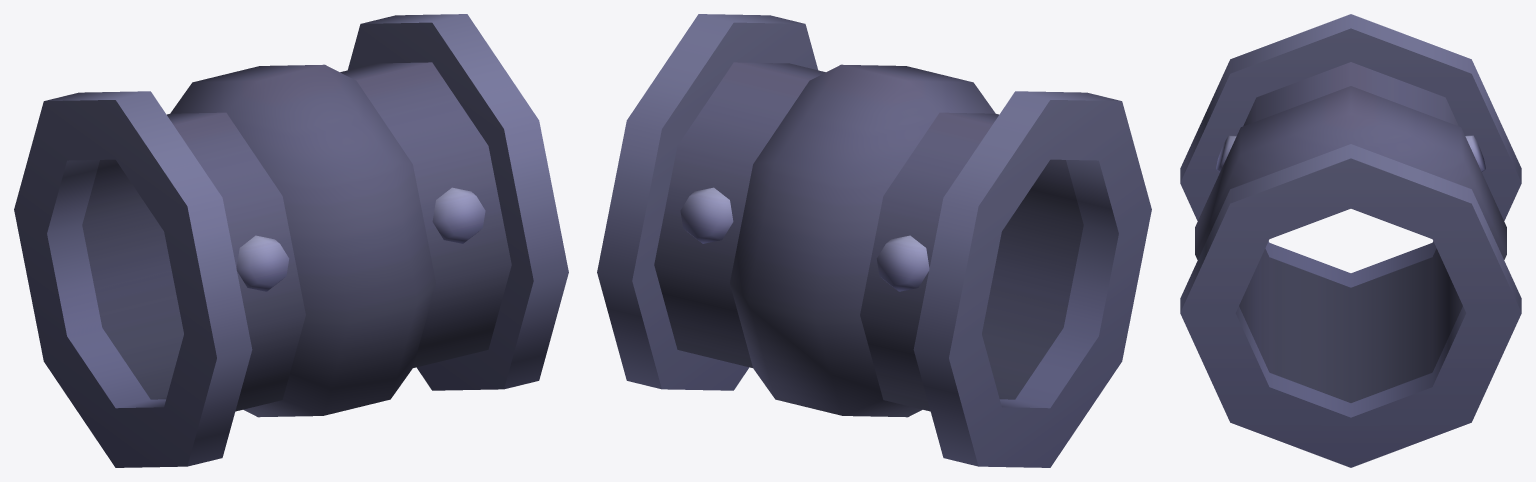
Rendered from kenney-factory-pipe-large-bump.glb.
3 renders of one model, left to right at view 1: azimuth 30°, elevation 25°; view 2: azimuth 150°, elevation 25°; view 3: azimuth 270°, elevation 25°, orthographic. The views are drawn at different scales.
Visible parts, largest first — view 1: pipe-large-bump; view 2: pipe-large-bump; view 3: pipe-large-bump.
Part boxes in pixels (x1,y1,x2,y2): pipe-large-bump: (14,14,568,467); pipe-large-bump: (597,14,1151,467); pipe-large-bump: (1180,14,1521,467).
Size of the model in its own units: 1 by 1 by 1.
Materials: 1 (1 with a texture image).
